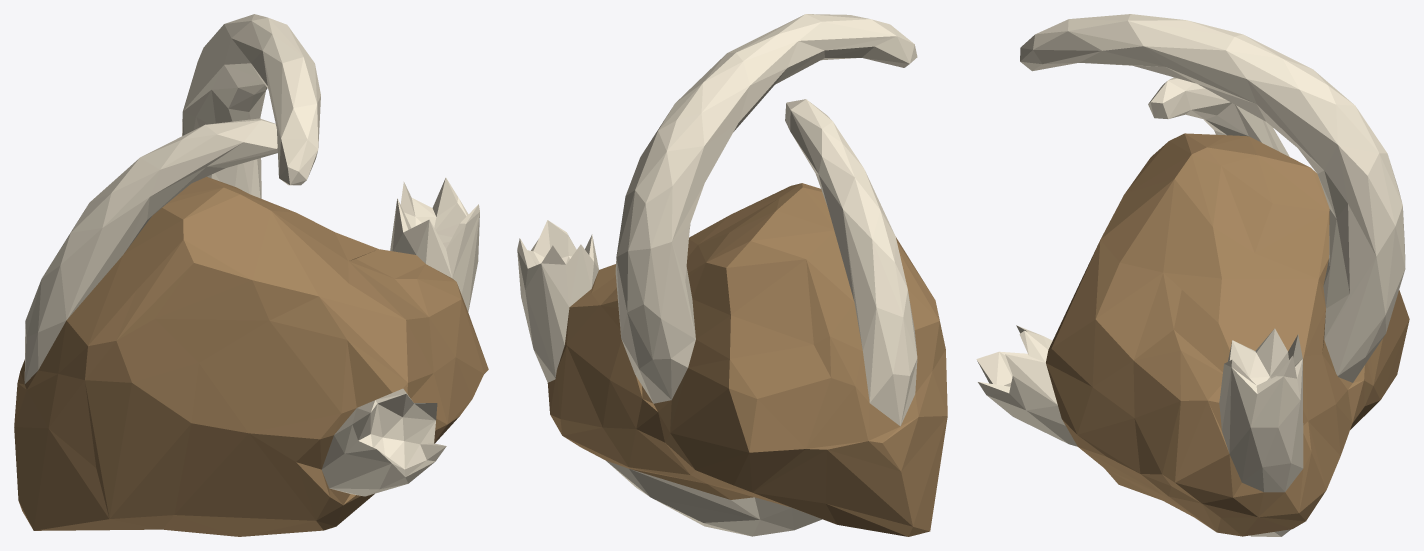
The model's file is SM_LP_FossilNode_5.fbx.
3 renders of one model, left to right at view 1: azimuth 30°, elevation 25°; view 2: azimuth 150°, elevation 25°; view 3: azimuth 270°, elevation 25°, orthographic. The views are drawn at different scales.
Visible parts, largest first — view 1: SM_LP_FossilNode_5; view 2: SM_LP_FossilNode_5; view 3: SM_LP_FossilNode_5.
Boxes of the visible parts, x1,y1,x2,y2 form: SM_LP_FossilNode_5: (14,14,488,536); SM_LP_FossilNode_5: (517,14,947,536); SM_LP_FossilNode_5: (976,14,1409,536).
Bounding box in the file's own units: 0.779 × 0.8566 × 0.689.
